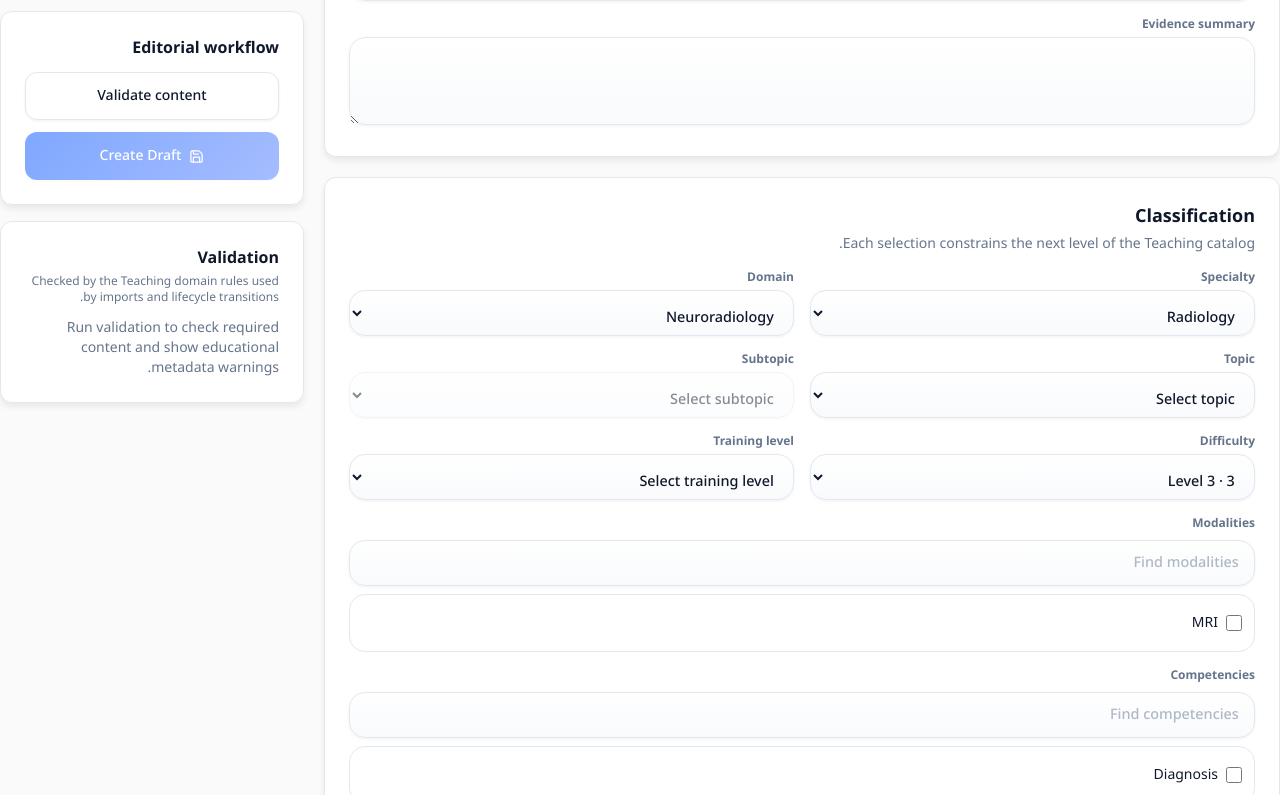
it: Teaching question editor › clears lower classification levels when a parent changes and shows source-type-specific fields
(page scrolled)
Step 1. Select "Brain tumors" in the dropdown named "Topic" → [1032, 395], box [810, 372, 1255, 418]
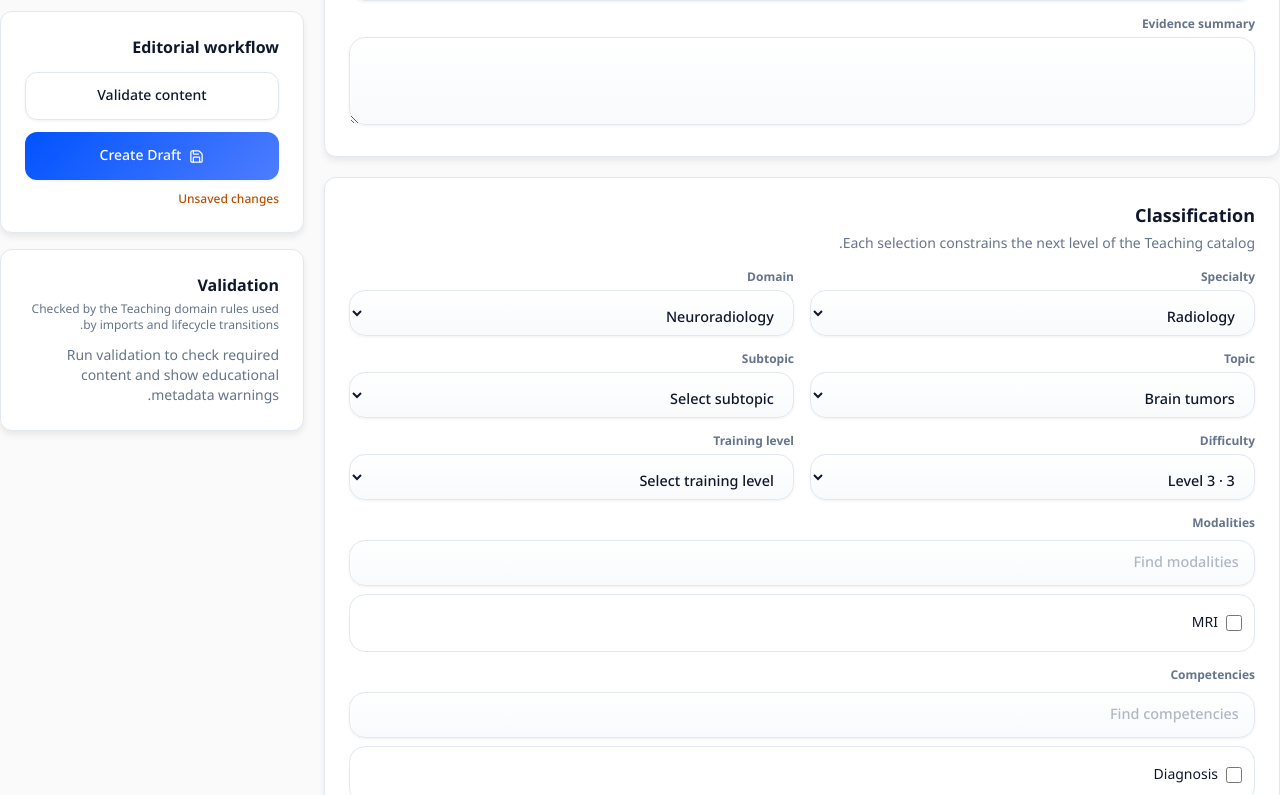
Step 2. Select "Glioma" in the dropdown named "Subtopic" → [572, 395], box [349, 372, 794, 418]
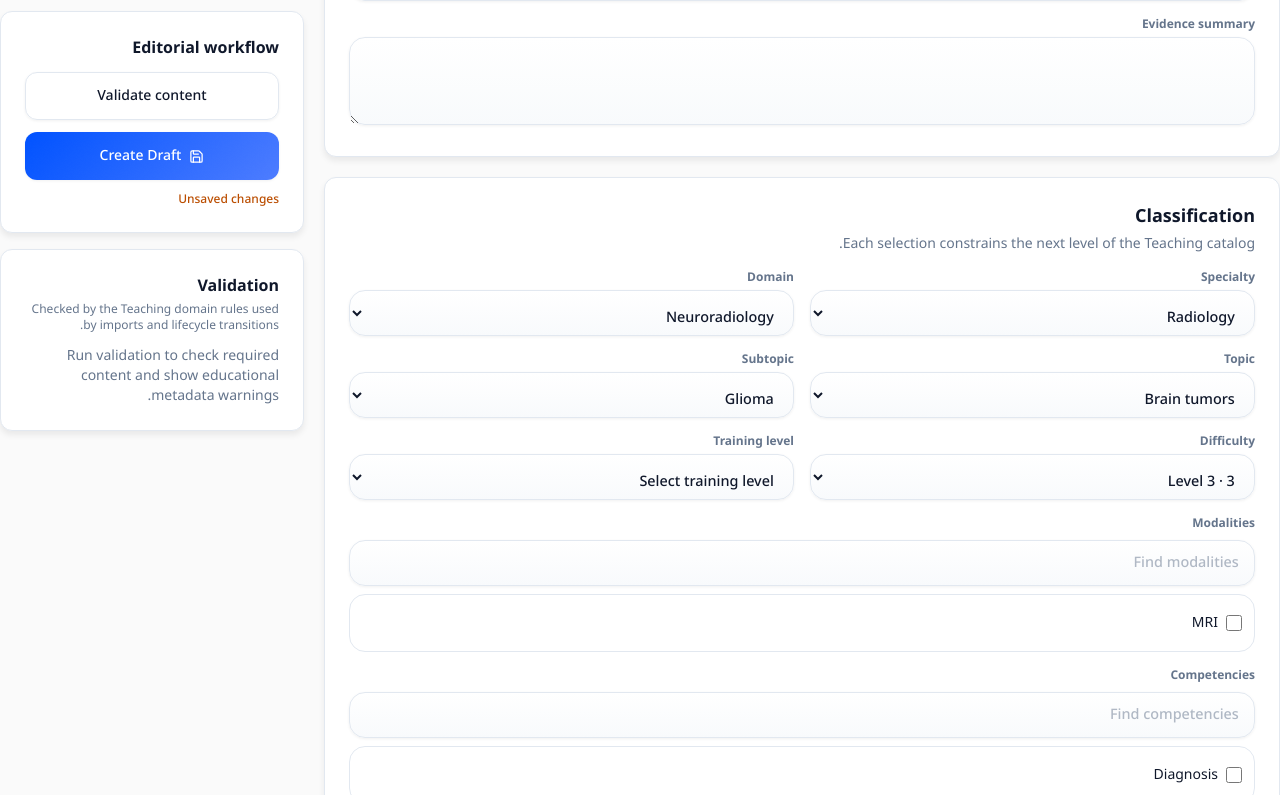
Step 3. Select "Cardiothoracic" in the dropdown named "Domain" → [572, 313], box [349, 290, 794, 336]
(page scrolled)
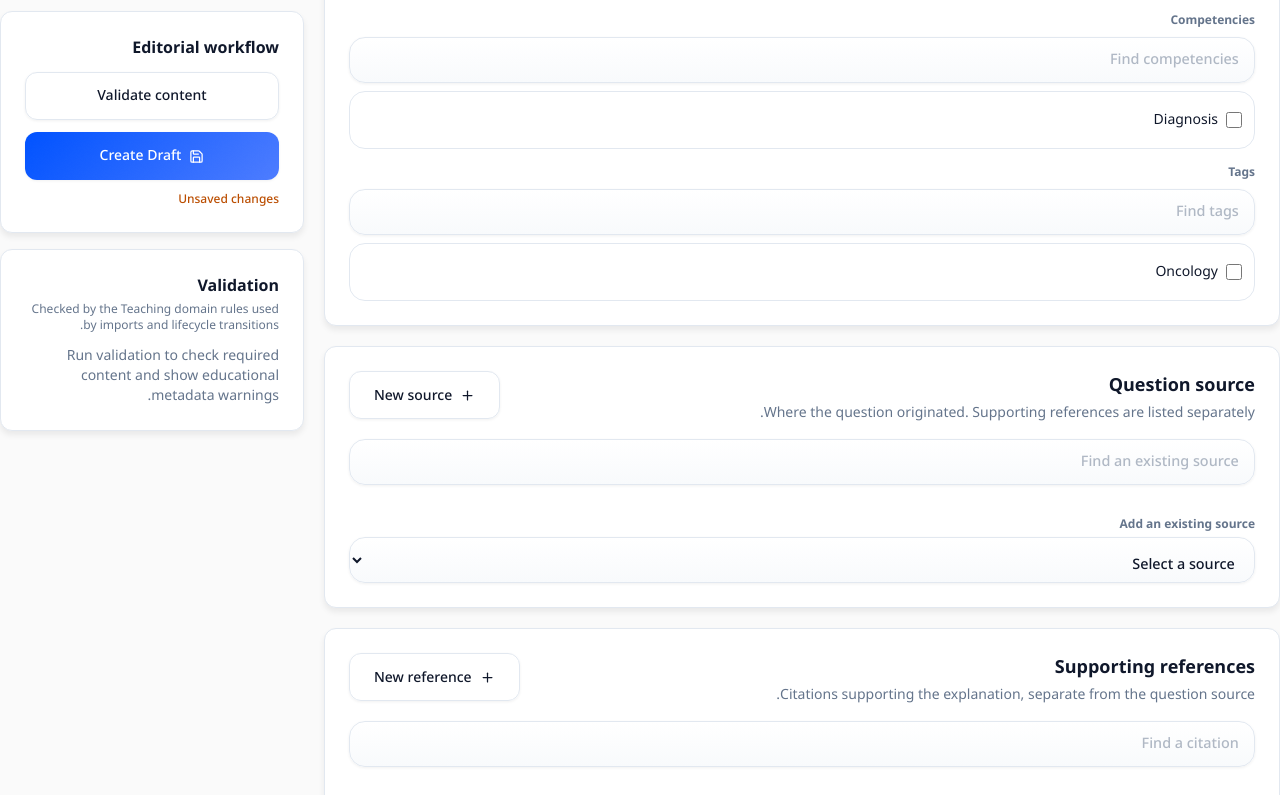
Step 4. Click the button "New source" → [425, 395], box [349, 371, 500, 419]
(page scrolled)
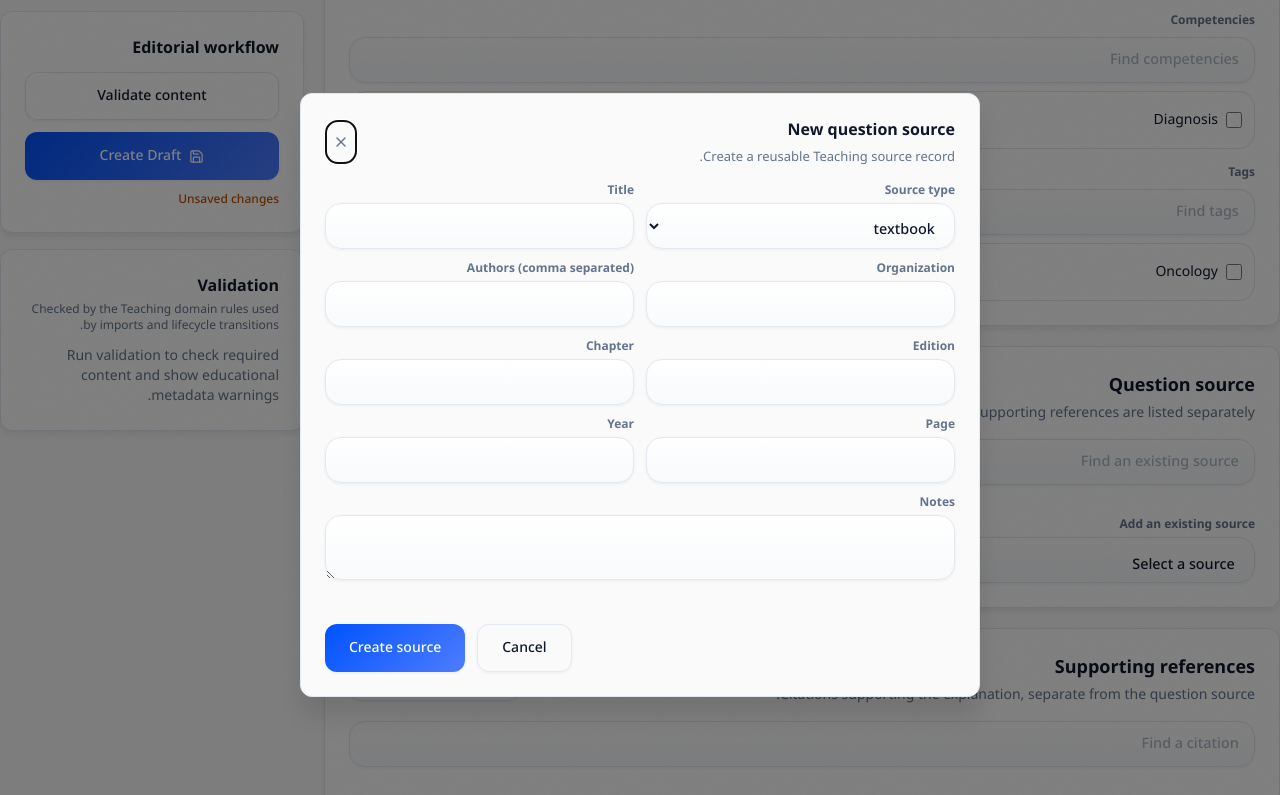
Expected: the heading "New question source" is shown, [788, 113, 955, 147]
Expected: the field labelled "Edition" is shown, [646, 359, 955, 405]
Step 5. Select "exam" in the dropdown labelled "Source type" → [800, 226], box [646, 203, 955, 249]
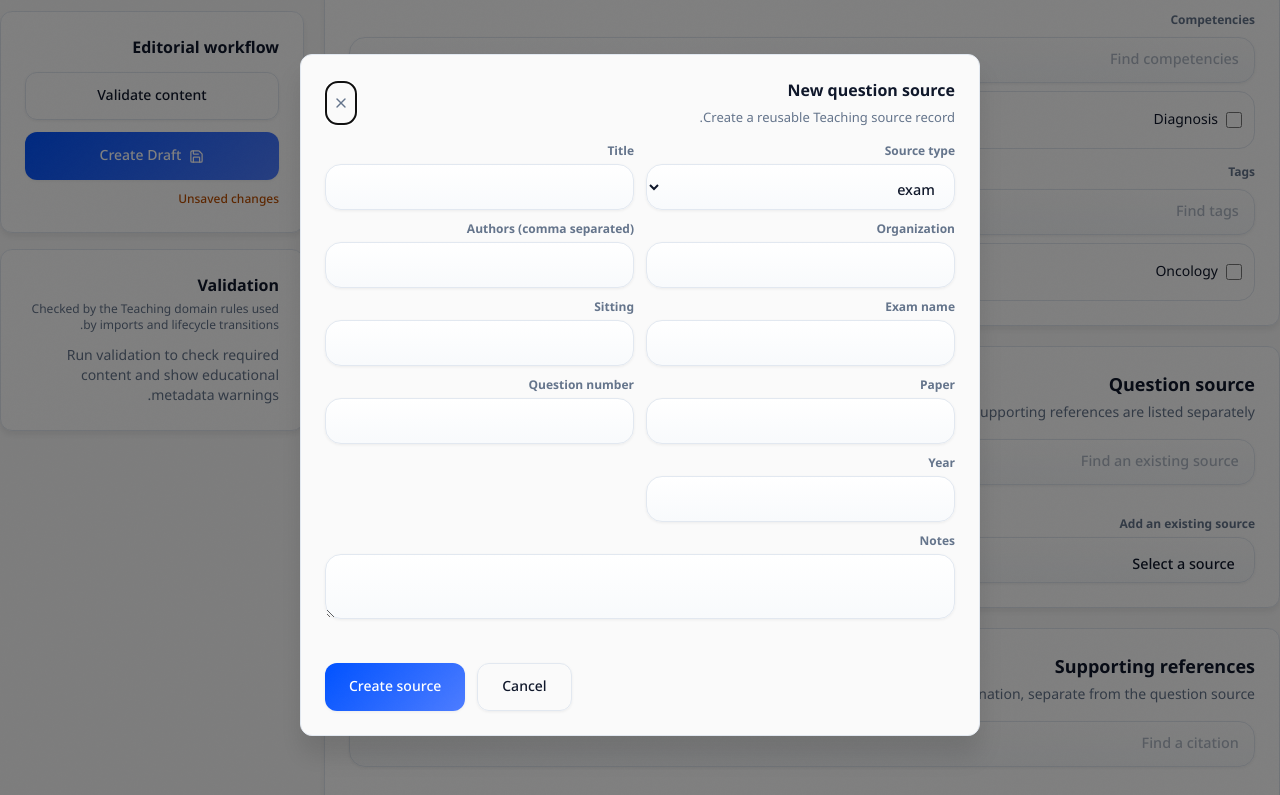
Expected: the field labelled "Exam name" is shown, [646, 320, 955, 366]
Expected: the field labelled "Sitting" is shown, [325, 320, 634, 366]
Expected: the label labelled "Edition" is gone
